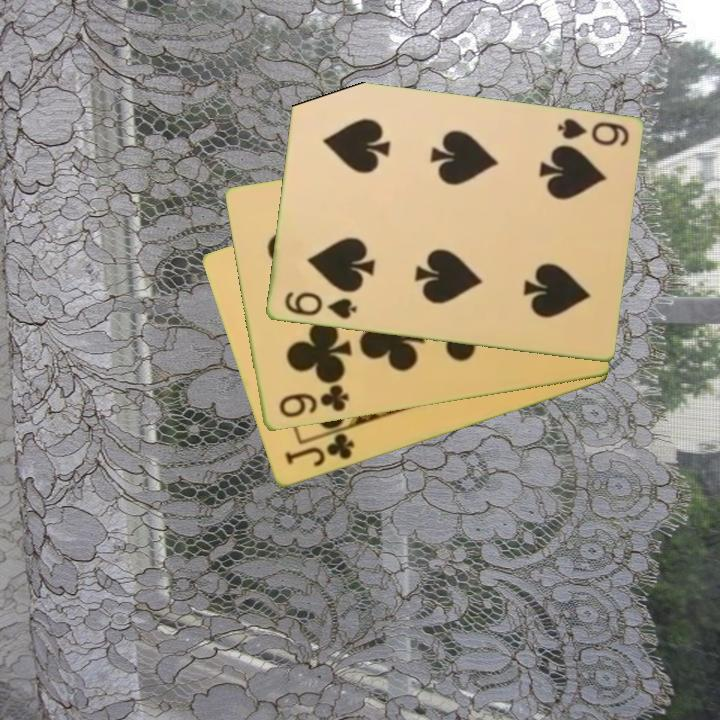6s: (553, 115, 632, 150), (280, 288, 359, 322)
9c: (275, 382, 352, 421)
Jc: (281, 430, 358, 471)
